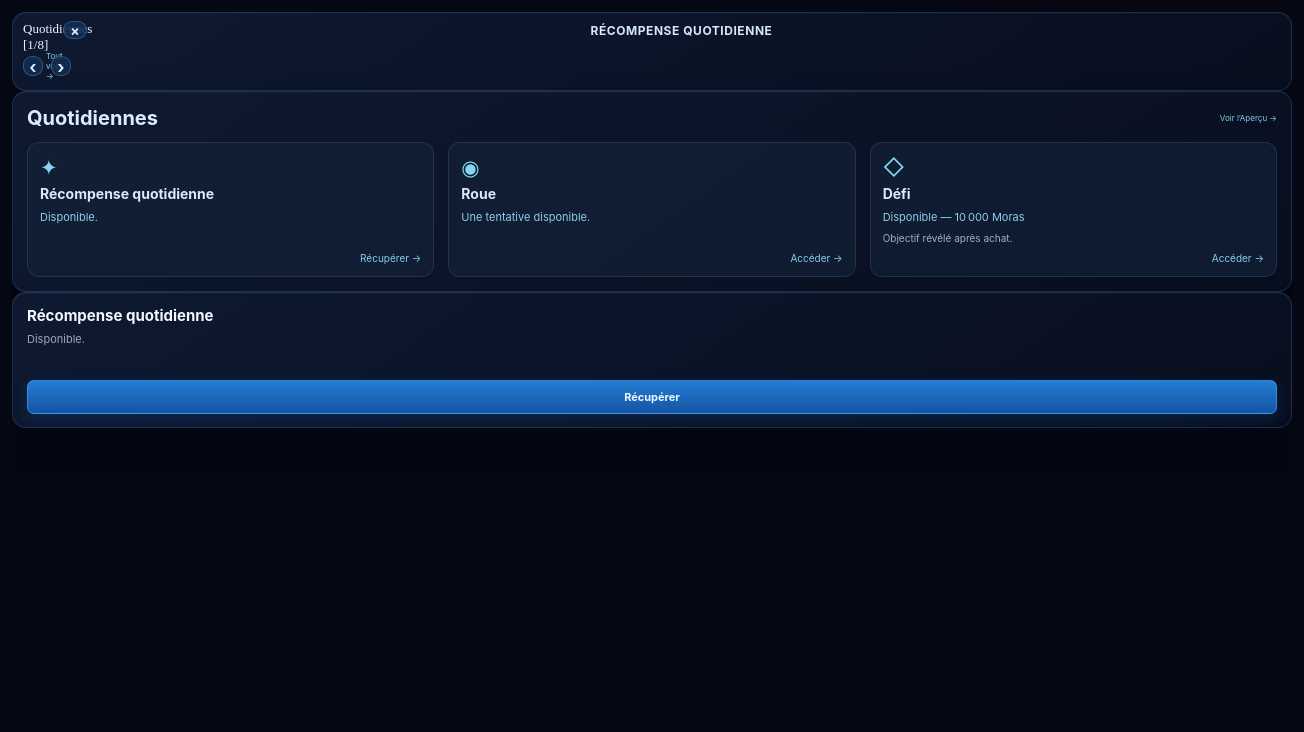
Test: Shared daily consultation and claim › keeps a failed claim on the same activity, exposes the error, and never fabricates completion
Click the button with class "daily-tracker-hit-target" at coordinates (652, 372), box [12,12,1292,731]
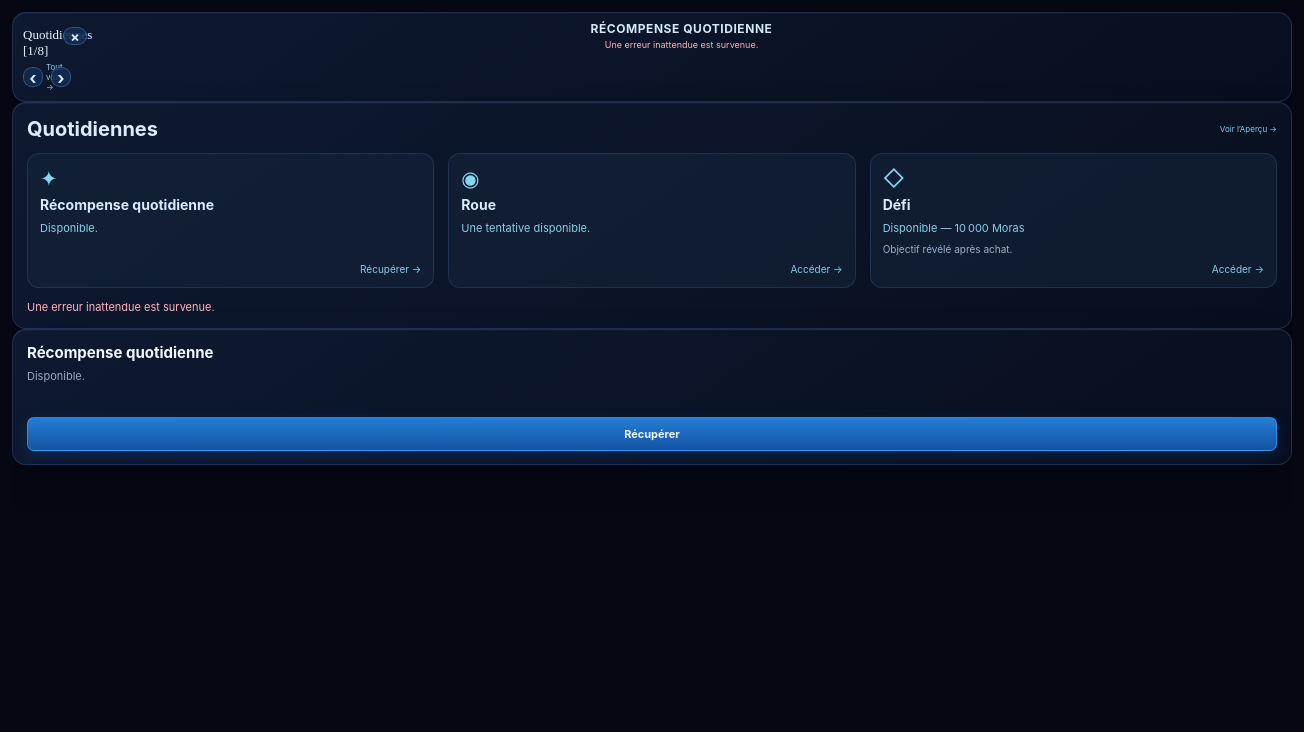
Expected: the text with class "daily-tracker-status" reads "Une erreur inattendue est survenue.", [605,39,758,50]
Expected: the number of elements with class "daily-tracker-status" is 1, [605,39,758,50]
